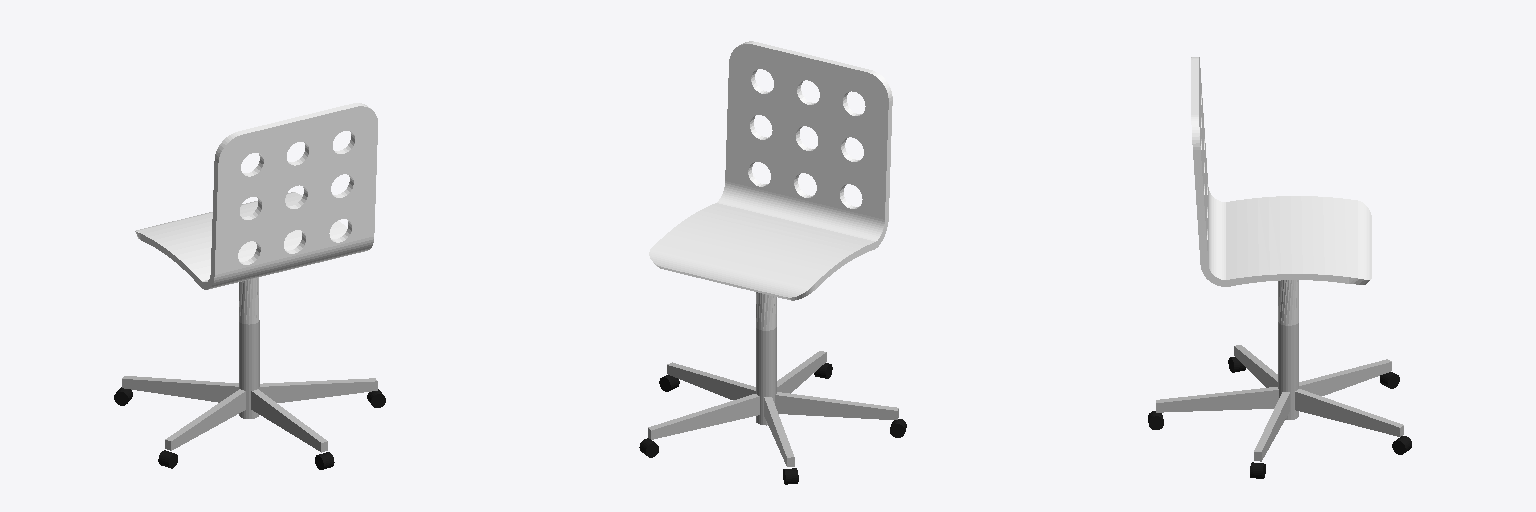
3 views of the same model, side by side, from view 1: azimuth 30°, elevation 25°; view 2: azimuth 150°, elevation 25°; view 3: azimuth 270°, elevation 25° (orthographic).
Visible parts, largest first — view 1: Mesh1 Group2 Group1 Model, Mesh12 Group3 ske3F1 Group1 Model, Mesh11 Group8 Group3 ske3F1 Group1 Model, Mesh7 Group6 Group3 ske3F1 Group1 Model, Mesh9 Group7 Group3 ske3F1 Group1 Model, Mesh5 Group5 Group3 ske3F1 Group1 Model; view 2: Mesh1 Group2 Group1 Model, Mesh12 Group3 ske3F1 Group1 Model, Mesh9 Group7 Group3 ske3F1 Group1 Model, Mesh3 Group4 Group3 ske3F1 Group1 Model, Mesh11 Group8 Group3 ske3F1 Group1 Model, Mesh5 Group5 Group3 ske3F1 Group1 Model, Mesh7 Group6 Group3 ske3F1 Group1 Model; view 3: Mesh1 Group2 Group1 Model, Mesh12 Group3 ske3F1 Group1 Model, Mesh5 Group5 Group3 ske3F1 Group1 Model, Mesh3 Group4 Group3 ske3F1 Group1 Model, Mesh7 Group6 Group3 ske3F1 Group1 Model, Mesh11 Group8 Group3 ske3F1 Group1 Model, Mesh9 Group7 Group3 ske3F1 Group1 Model.
Boxes of the visible parts, <box> form: Mesh1 Group2 Group1 Model: <box>135,103,377,289</box>; Mesh12 Group3 ske3F1 Group1 Model: <box>239,277,259,418</box>; Mesh11 Group8 Group3 ske3F1 Group1 Model: <box>259,378,377,402</box>; Mesh7 Group6 Group3 ske3F1 Group1 Model: <box>122,376,238,402</box>; Mesh9 Group7 Group3 ske3F1 Group1 Model: <box>165,389,245,450</box>; Mesh5 Group5 Group3 ske3F1 Group1 Model: <box>251,389,327,452</box>; Mesh1 Group2 Group1 Model: <box>649,41,892,300</box>; Mesh12 Group3 ske3F1 Group1 Model: <box>756,292,776,425</box>; Mesh9 Group7 Group3 ske3F1 Group1 Model: <box>775,392,898,419</box>; Mesh3 Group4 Group3 ske3F1 Group1 Model: <box>648,394,759,439</box>; Mesh11 Group8 Group3 ske3F1 Group1 Model: <box>667,362,755,399</box>; Mesh5 Group5 Group3 ske3F1 Group1 Model: <box>777,351,826,393</box>; Mesh7 Group6 Group3 ske3F1 Group1 Model: <box>764,397,794,466</box>; Mesh1 Group2 Group1 Model: <box>1191,57,1371,286</box>; Mesh12 Group3 ske3F1 Group1 Model: <box>1278,280,1298,419</box>; Mesh5 Group5 Group3 ske3F1 Group1 Model: <box>1156,387,1278,412</box>; Mesh3 Group4 Group3 ske3F1 Group1 Model: <box>1295,389,1403,436</box>; Mesh7 Group6 Group3 ske3F1 Group1 Model: <box>1299,359,1391,395</box>; Mesh11 Group8 Group3 ske3F1 Group1 Model: <box>1254,392,1289,461</box>; Mesh9 Group7 Group3 ske3F1 Group1 Model: <box>1234,345,1277,387</box>.
Size of the model in its own units: 0.5494 by 0.7528 by 0.5363.